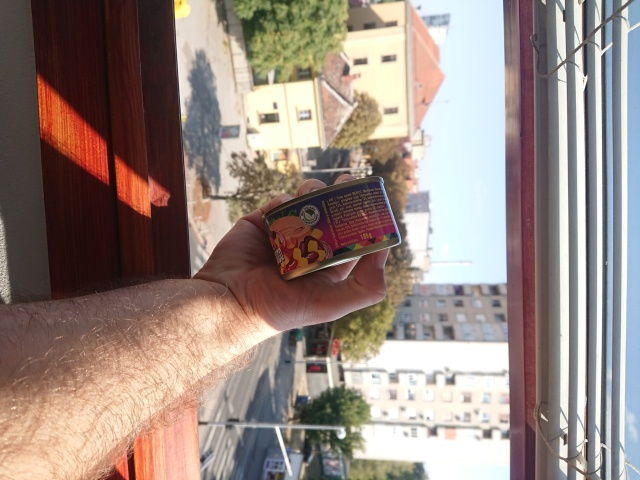Giana Tuna Salad Mexico 185g: (259, 173, 403, 282)
